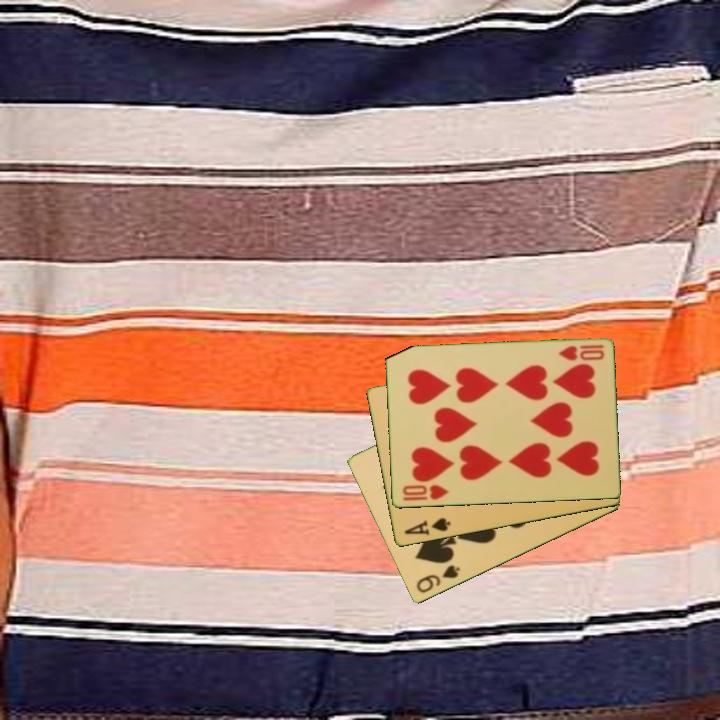10h: (399, 481, 452, 504), (554, 342, 607, 364)
9s: (413, 562, 463, 596)
As: (400, 514, 453, 539)
